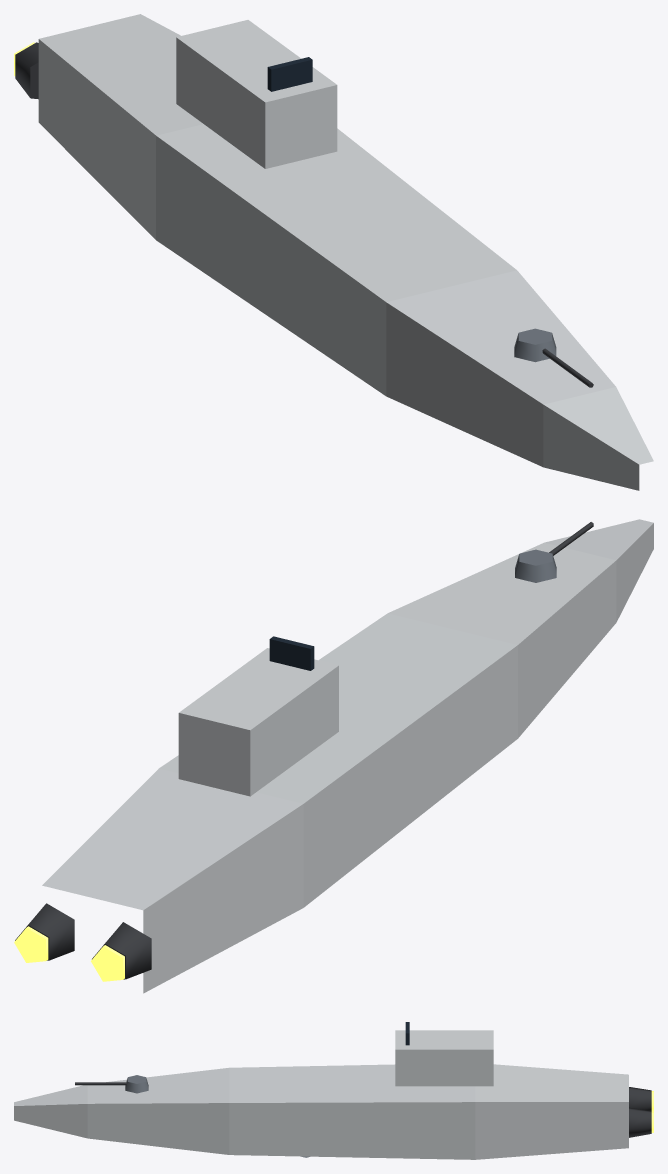
Rendered from space_ship_frigate_mk1_lod1.glb.
3 renders of one model, top to bottom at view 1: azimuth 30°, elevation 25°; view 2: azimuth 150°, elevation 25°; view 3: azimuth 270°, elevation 25°, orthographic. The views are drawn at different scales.
Visible parts, largest first — view 1: body, turret_0, engine_0; view 2: body, engine_0, engine_1, turret_0; view 3: body, engine_1, turret_0, engine_0.
Boxes of the visible parts, box(x1,y1,x2,y2) form: body: box(38, 14, 653, 490); turret_0: box(514, 328, 593, 387); engine_0: box(14, 42, 38, 99); body: box(42, 519, 653, 993); engine_0: box(91, 922, 151, 981); engine_1: box(14, 903, 74, 962); turret_0: box(515, 522, 593, 582); body: box(14, 1022, 628, 1159); engine_1: box(629, 1107, 653, 1137); turret_0: box(75, 1075, 148, 1093); engine_0: box(629, 1087, 653, 1111).
Size of the model in its own units: 4.53 by 6.77 by 31.22.
